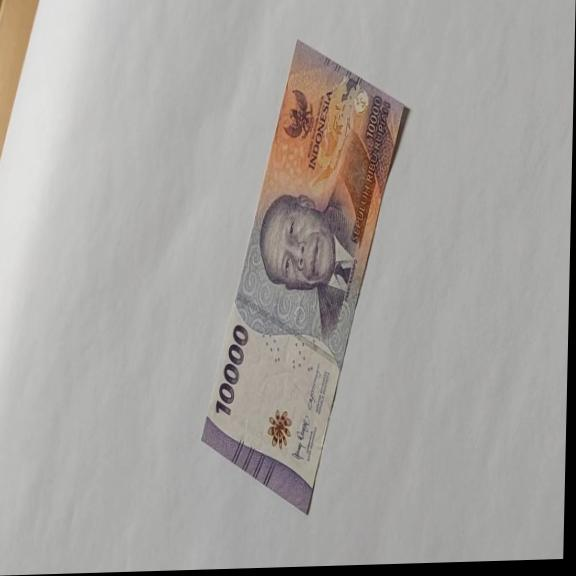Kertas: (198, 34, 410, 518), (215, 323, 249, 418)
